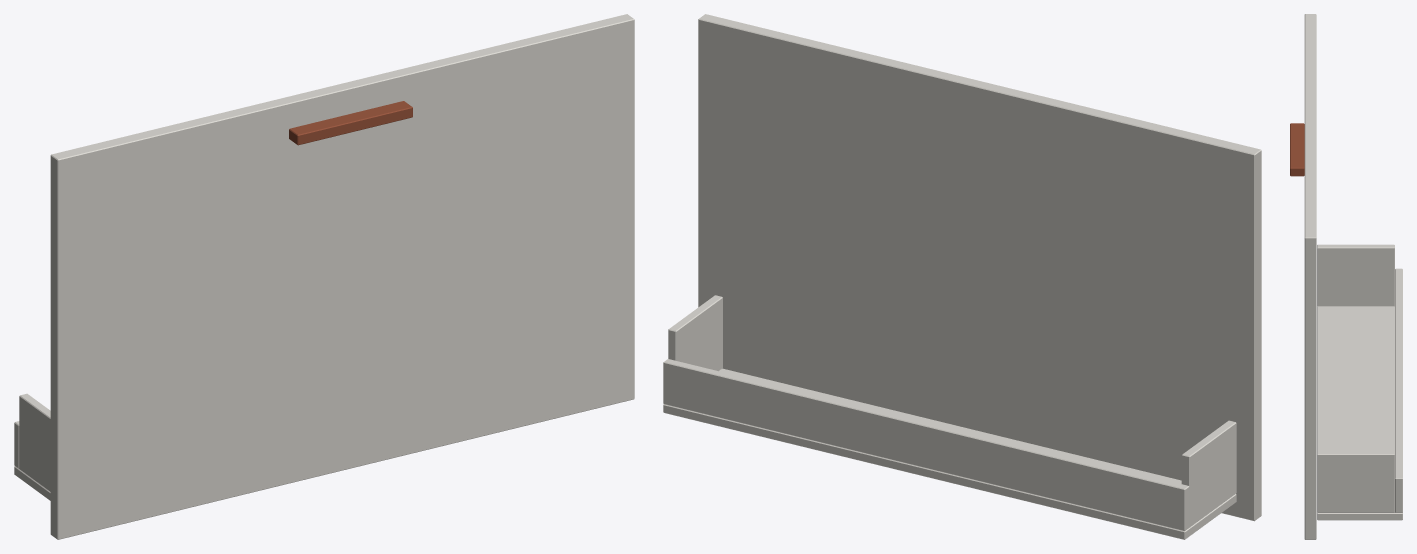
The model's file is shoe_cabinet_tipout_lower_compartment.glb.
3 views of the same model, side by side, from view 1: azimuth 30°, elevation 25°; view 2: azimuth 150°, elevation 25°; view 3: azimuth 270°, elevation 25° (orthographic). The views are drawn at different scales.
Parts seen in each view (by area): view 1: shoe_cabinet_tipout_lower_compartment.001; view 2: shoe_cabinet_tipout_lower_compartment.001; view 3: shoe_cabinet_tipout_lower_compartment.001.
Boxes of the visible parts, left/top/right/bottom form: shoe_cabinet_tipout_lower_compartment.001: left=14, top=14, right=634, bottom=539; shoe_cabinet_tipout_lower_compartment.001: left=663, top=14, right=1261, bottom=539; shoe_cabinet_tipout_lower_compartment.001: left=1290, top=14, right=1402, bottom=539.
Size of the model in its own units: 0.798 by 0.5025 by 0.17.
